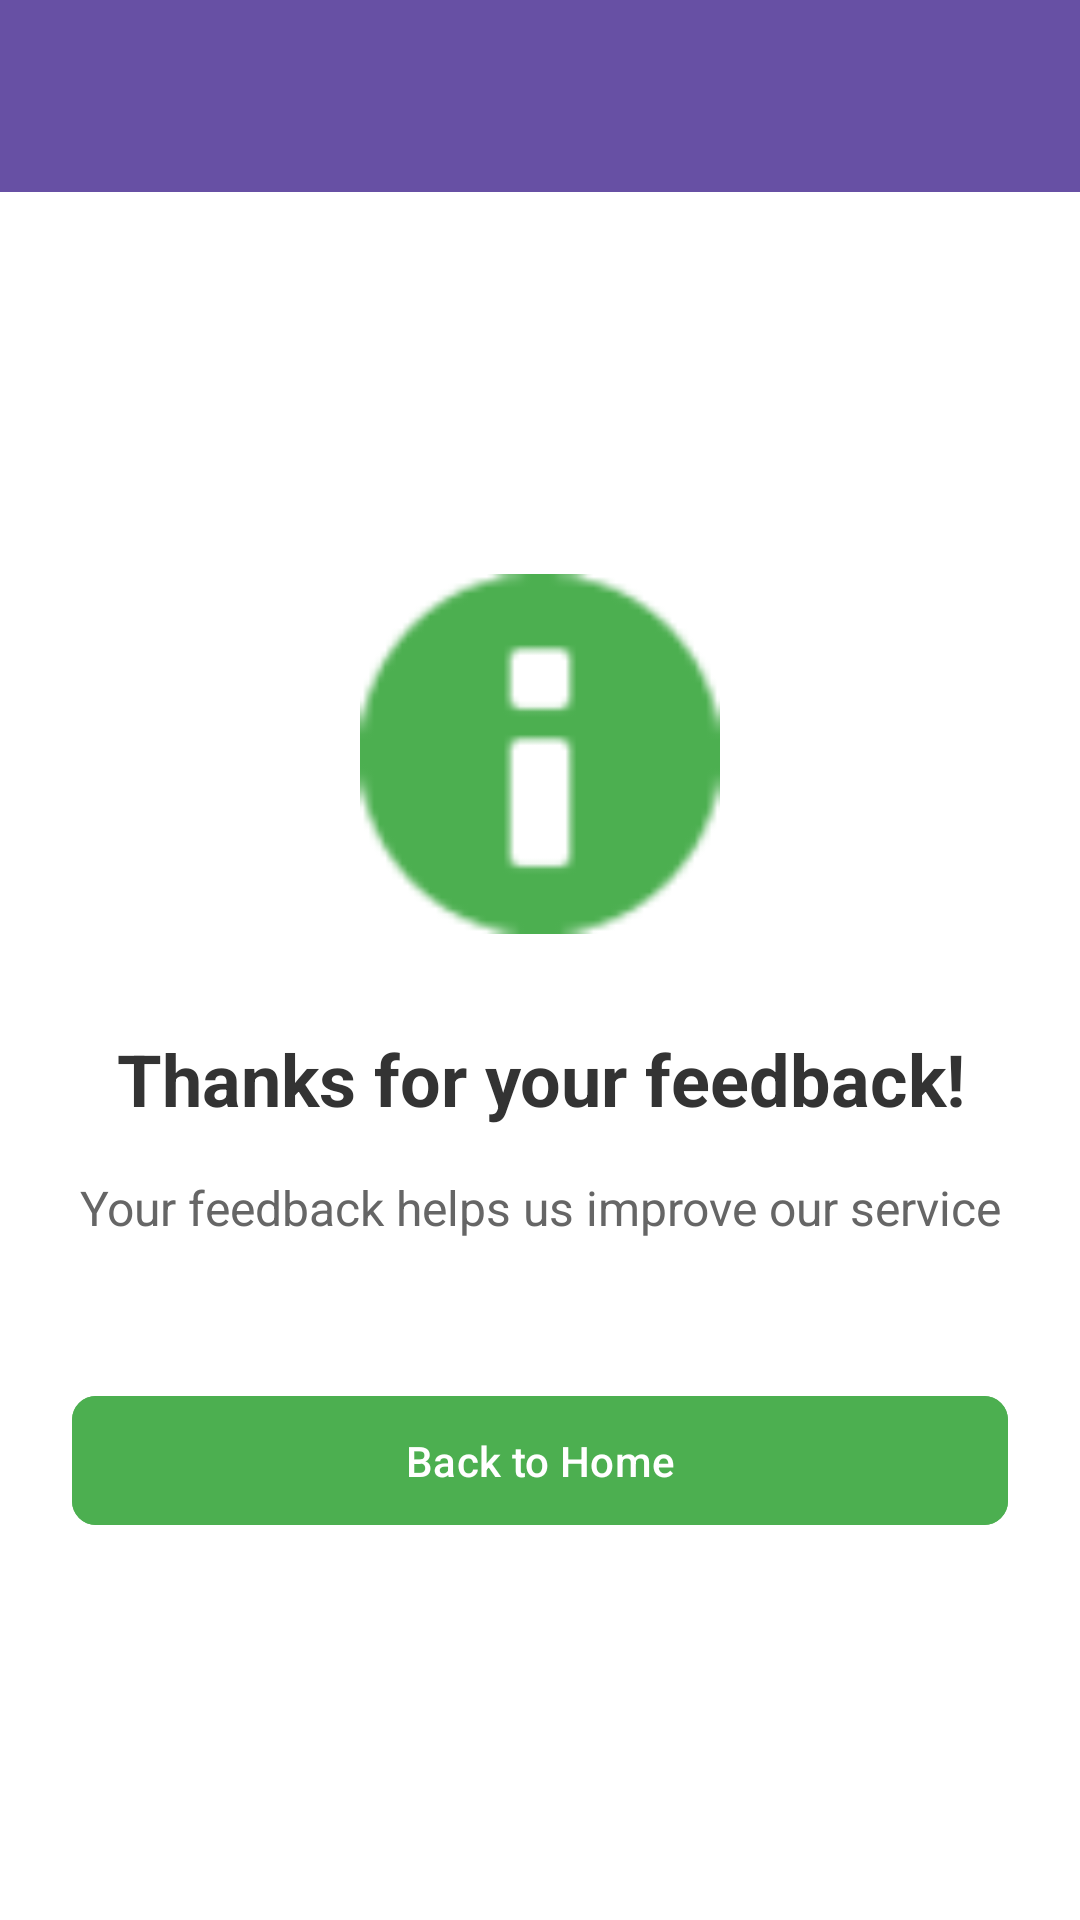

Screen size 1080×1920. Icon name, then its box in pixels as bbox=[x1, y1, x2, y2]:
info: bbox=[360, 574, 720, 934]
